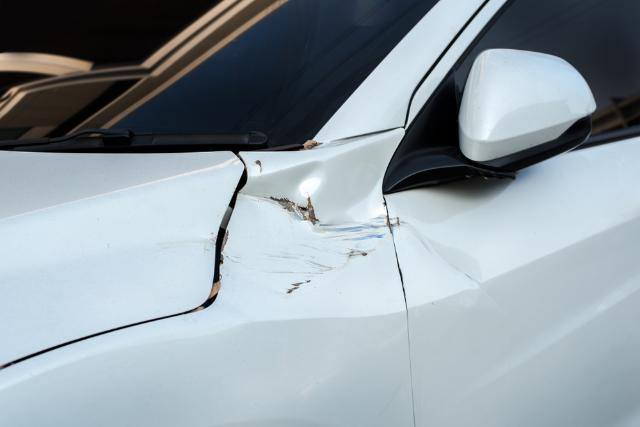dent: (225, 163, 390, 290), (409, 227, 481, 307)
